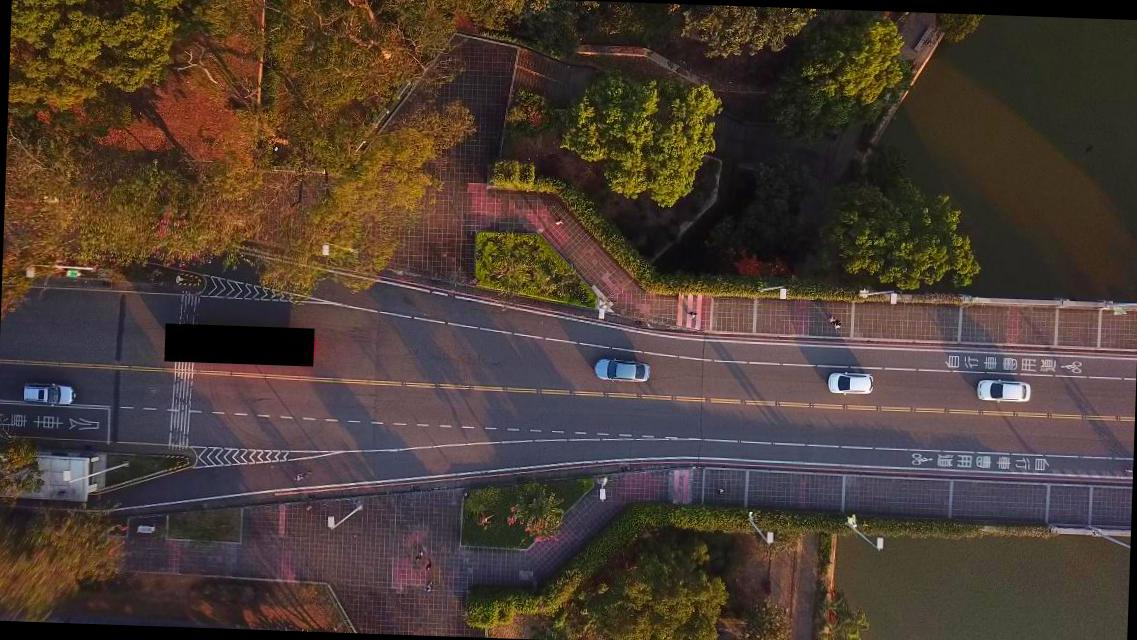vehicle: (593, 357, 650, 384), (20, 381, 74, 406), (976, 377, 1030, 401), (826, 371, 872, 395)
